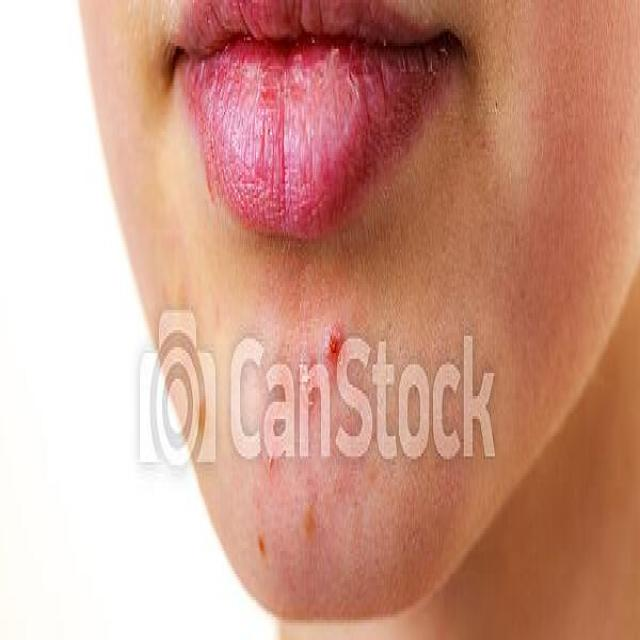blackheads: (326, 313, 342, 367), (306, 491, 316, 548), (256, 531, 269, 560)
